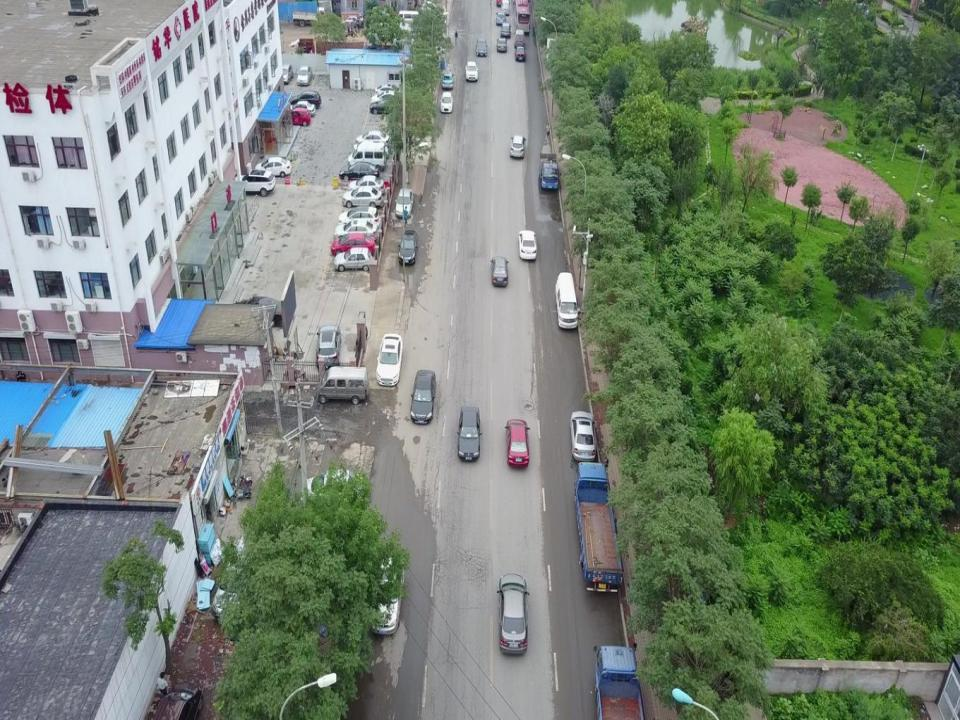bus: (511, 0, 531, 35)
car: (212, 530, 264, 624), (366, 554, 406, 636), (497, 573, 531, 655), (299, 469, 365, 511), (229, 296, 291, 326), (456, 405, 482, 463), (410, 369, 437, 424), (376, 333, 404, 386), (570, 410, 597, 461), (504, 417, 530, 467), (330, 231, 376, 258), (315, 323, 341, 370), (234, 168, 276, 196), (333, 219, 380, 243), (338, 205, 380, 231), (332, 246, 372, 272), (342, 185, 383, 209), (338, 161, 380, 181), (254, 156, 292, 177), (354, 130, 392, 150), (397, 230, 418, 266), (348, 175, 385, 193), (289, 90, 322, 110), (353, 141, 389, 159), (280, 106, 312, 126), (394, 188, 414, 219), (518, 230, 538, 260), (490, 255, 509, 285), (285, 100, 316, 116), (370, 89, 398, 106), (369, 99, 398, 115), (374, 83, 402, 98), (509, 135, 526, 158), (296, 65, 313, 87), (278, 62, 294, 85), (439, 91, 453, 114), (465, 61, 479, 82), (340, 16, 361, 30), (441, 70, 455, 89), (475, 38, 489, 56), (496, 36, 508, 52), (500, 22, 512, 38), (495, 10, 507, 26), (515, 45, 526, 62), (500, 0, 510, 16)
truck: (568, 457, 624, 593), (592, 643, 647, 720), (539, 153, 559, 189)
van: (317, 364, 369, 405), (152, 680, 204, 720), (554, 271, 581, 329), (346, 141, 386, 171), (394, 10, 420, 28), (513, 29, 525, 49)
